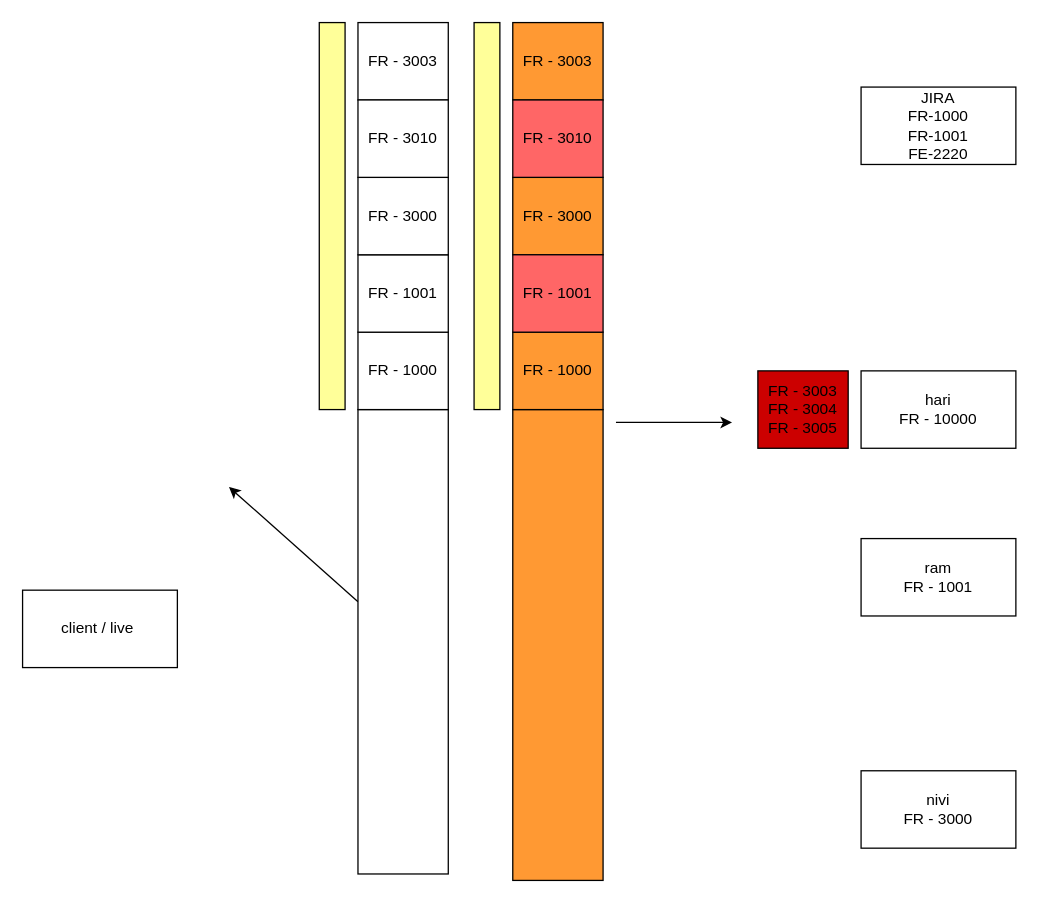
This 1038x903 diagram has some shape labels left out. The box of each missing label's shape, as (x1, y1, x2, y2) in pixels:
develop: (511, 408, 603, 880)
main: (357, 408, 448, 874)
